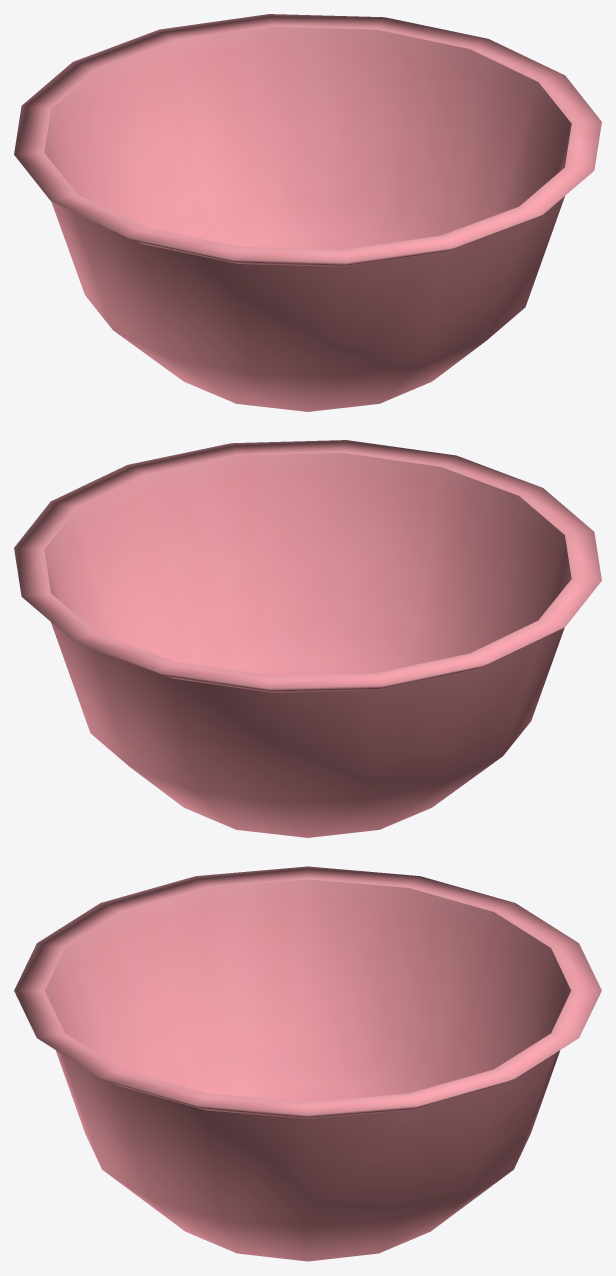
The model's file is KR_Bowl_01_01.fbx.
3 renders of one model, top to bottom at view 1: azimuth 30°, elevation 25°; view 2: azimuth 150°, elevation 25°; view 3: azimuth 270°, elevation 25°, orthographic.
Visible parts, largest first — view 1: kr_bowl_01_01; view 2: kr_bowl_01_01; view 3: kr_bowl_01_01.
Part boxes in pixels (x1=…): kr_bowl_01_01: x1=14, y1=14, x2=601, y2=411; kr_bowl_01_01: x1=14, y1=440, x2=601, y2=837; kr_bowl_01_01: x1=14, y1=866, x2=601, y2=1261.
Size of the model in its own units: 24 by 10 by 24.
